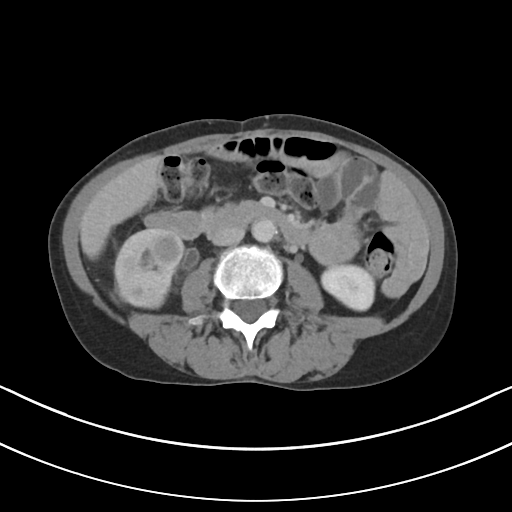Lesion: (150, 232, 183, 266)
